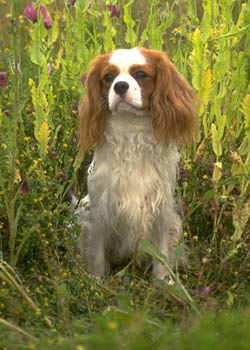dog: (72, 47, 197, 285)
